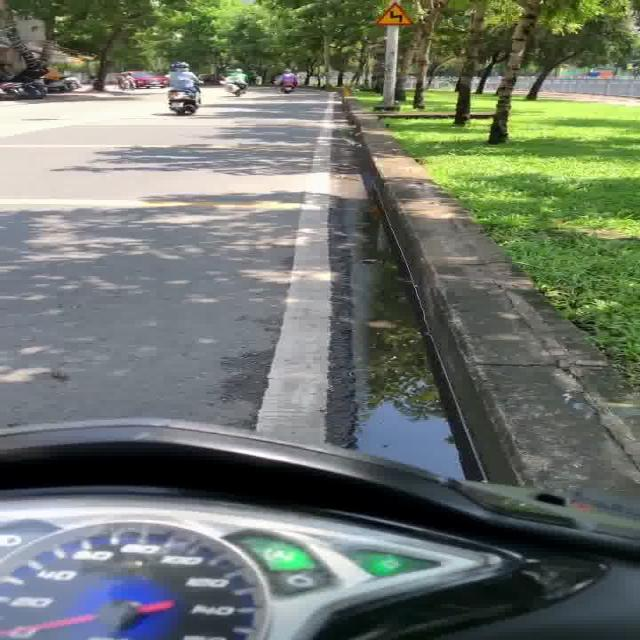Bien bao nhieu cho ngoat nguy hiem lien tiep: (372, 1, 418, 27)
